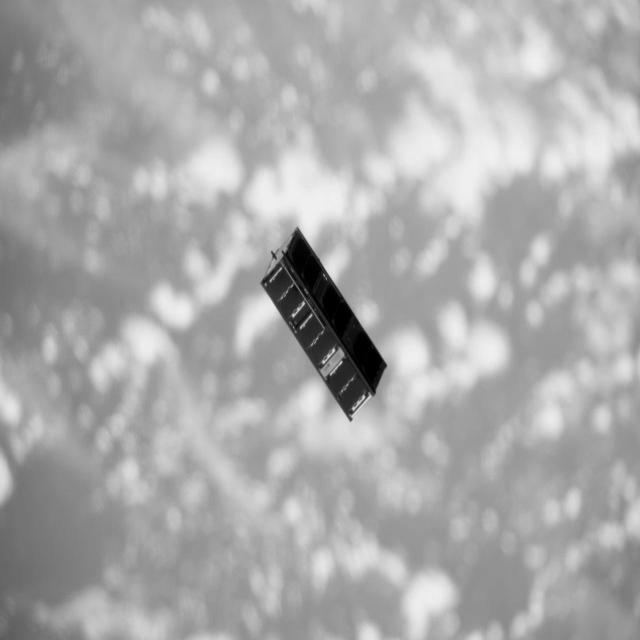satellite: (251, 232, 393, 419)
